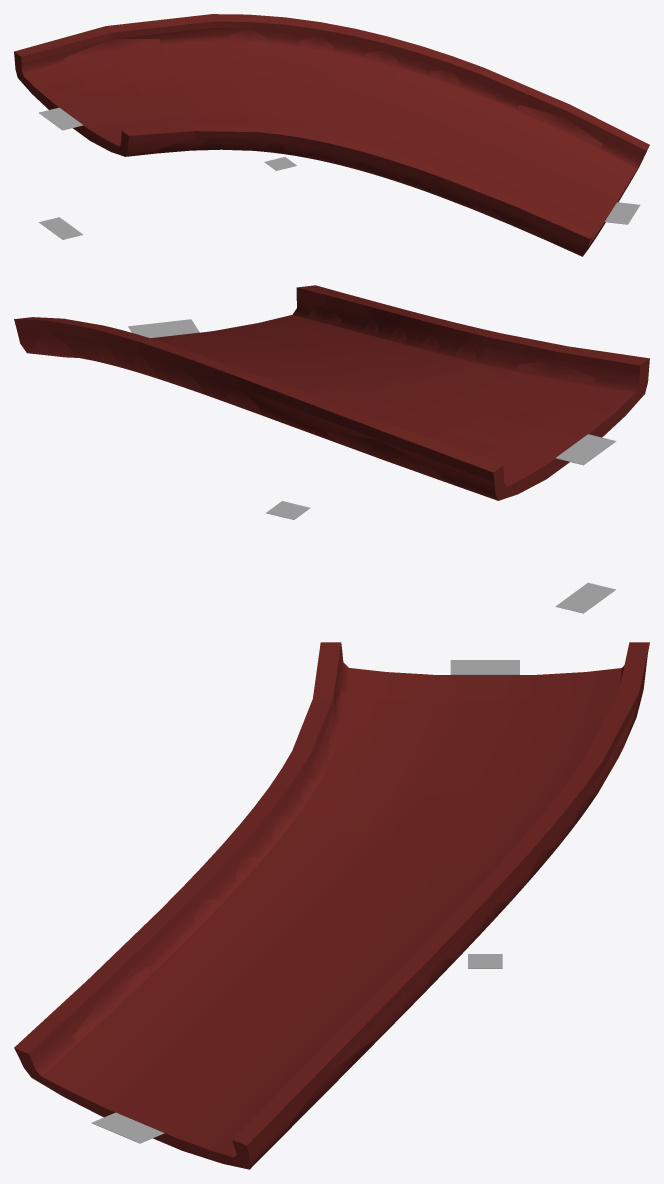
Rendered from FlatConnector45DownRightModerate.fbx.
3 renders of one model, top to bottom at view 1: azimuth 30°, elevation 25°; view 2: azimuth 150°, elevation 25°; view 3: azimuth 270°, elevation 25°, orthographic. The views are drawn at different scales.
Visible parts, largest first — view 1: pPipe3, pasted__pCube3, pasted__pCube63, pasted__pCube68; view 2: pPipe3, pasted__pCube3, pasted__pCube68, pasted__pCube63, pasted__pCube60; view 3: pPipe3, pasted__pCube63, pasted__pCube3.
Boxes of the visible parts, x1,y1,x2,y2 form: pPipe3: (14,14,649,256); pasted__pCube3: (39,107,83,130); pasted__pCube63: (605,202,640,224); pasted__pCube68: (39,217,83,239); pPipe3: (14,285,649,500); pasted__pCube3: (555,434,616,465); pasted__pCube68: (555,582,615,613); pasted__pCube63: (128,319,199,338); pasted__pCube60: (266,501,310,519); pPipe3: (14,642,649,1169); pasted__pCube63: (91,1112,164,1143); pasted__pCube3: (450,660,519,674).
Bounding box in the file's own units: 24.66 × 6.8 × 18.42.
